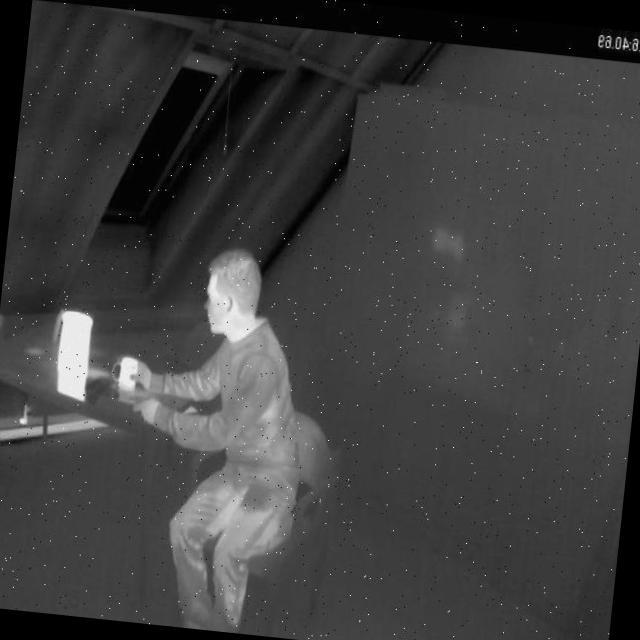person: (84, 233, 360, 640)
